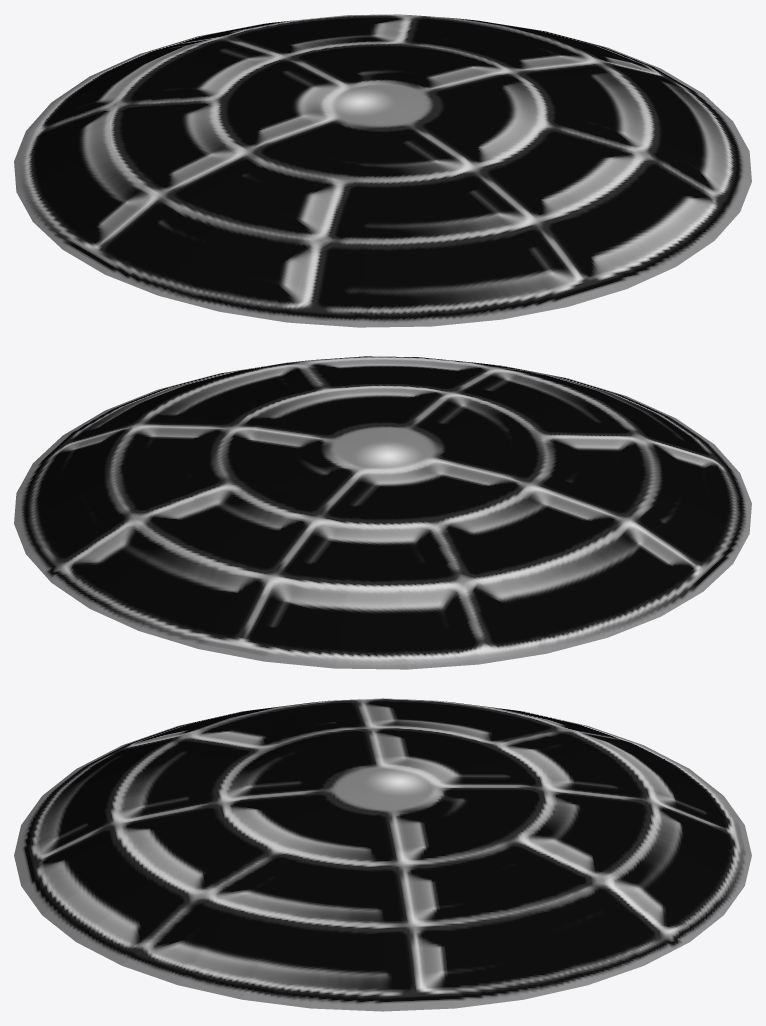
Rendered from FanCellBack.fbx.
The picture shows the model from 3 angles, top to bottom: view 1: azimuth 30°, elevation 25°; view 2: azimuth 150°, elevation 25°; view 3: azimuth 270°, elevation 25°; orthographic projection.
Parts seen in each view (by area): view 1: Cube_002; view 2: Cube_002; view 3: Cube_002.
Part boxes in pixels (x1,y1,x2,y2): Cube_002: [14, 14, 751, 327]; Cube_002: [14, 356, 751, 669]; Cube_002: [14, 698, 751, 1011].
Size of the model in its own units: 2 by 0.2103 by 2.
